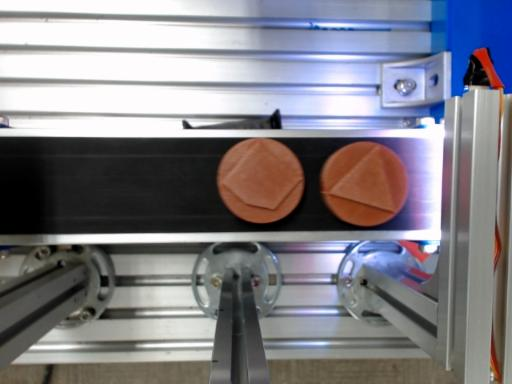Brown_Waper: (217, 138, 304, 223), (320, 142, 408, 226)
